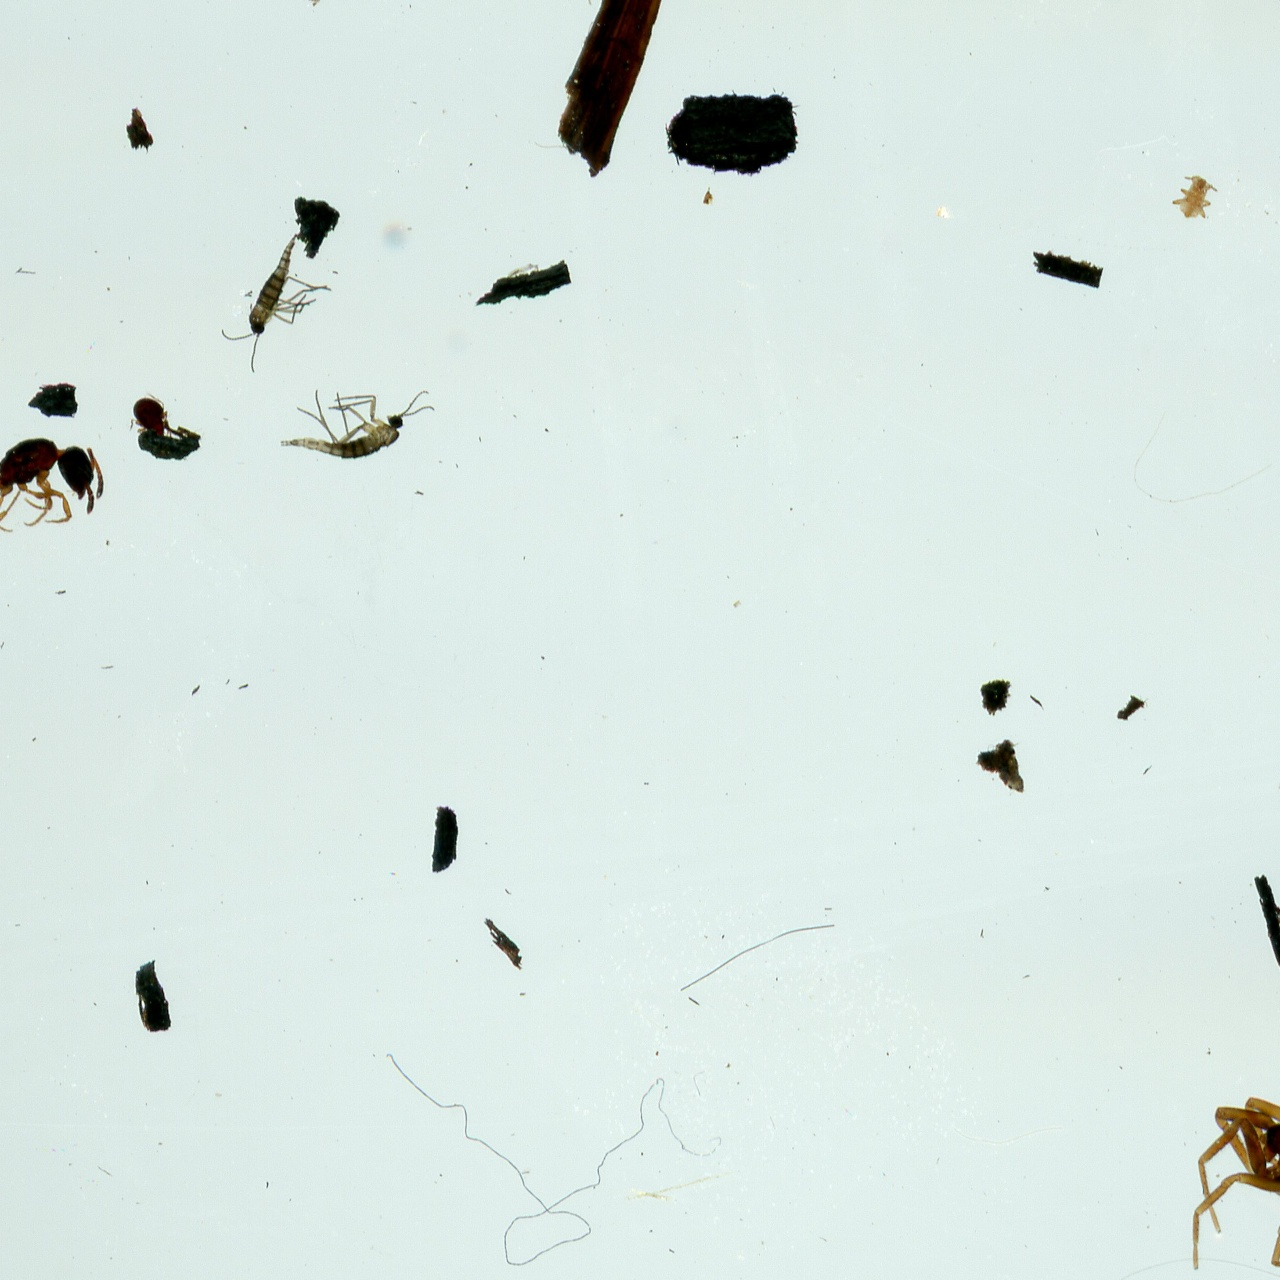arthropod: (207, 217, 348, 392), (1186, 1026, 1280, 1280), (0, 420, 116, 563), (279, 384, 436, 465), (1244, 1142, 1280, 1280), (127, 392, 175, 438), (1173, 175, 1219, 219)
